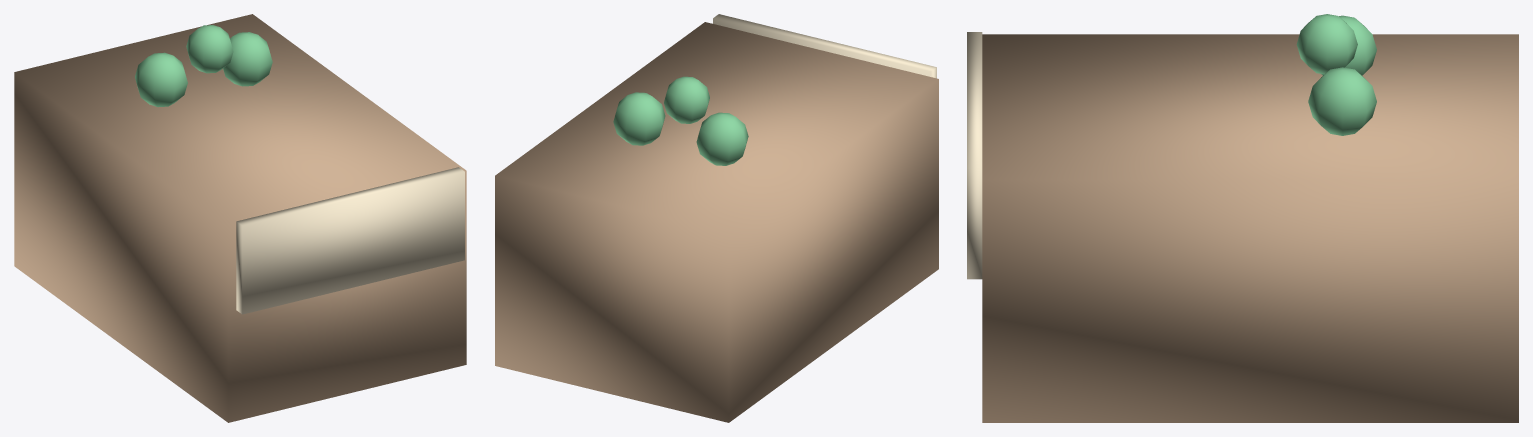
File: coconut_shop.glb
3 views of the same model, side by side, from view 1: azimuth 30°, elevation 25°; view 2: azimuth 150°, elevation 25°; view 3: azimuth 270°, elevation 25° (orthographic). The views are drawn at different scales.
Parts seen in each view (by area): view 1: counter, signboard, coco1, coco2, coco3; view 2: counter, signboard, coco2, coco1, coco3; view 3: counter, signboard, coco2, coco3, coco1.
Part boxes in pixels (x1,y1,x2,y2): counter: [14, 14, 466, 422]; signboard: [236, 167, 464, 314]; coco1: [135, 52, 187, 107]; coco2: [223, 32, 272, 86]; coco3: [186, 25, 233, 73]; counter: [495, 22, 938, 422]; signboard: [713, 14, 936, 78]; coco2: [613, 92, 665, 145]; coco1: [696, 112, 748, 165]; coco3: [664, 76, 709, 123]; counter: [982, 34, 1518, 422]; signboard: [967, 32, 982, 279]; coco2: [1308, 67, 1376, 135]; coco3: [1296, 14, 1357, 74]; coco1: [1321, 15, 1376, 75].
Size of the model in its own units: 0.45 by 0.48 by 0.72.
